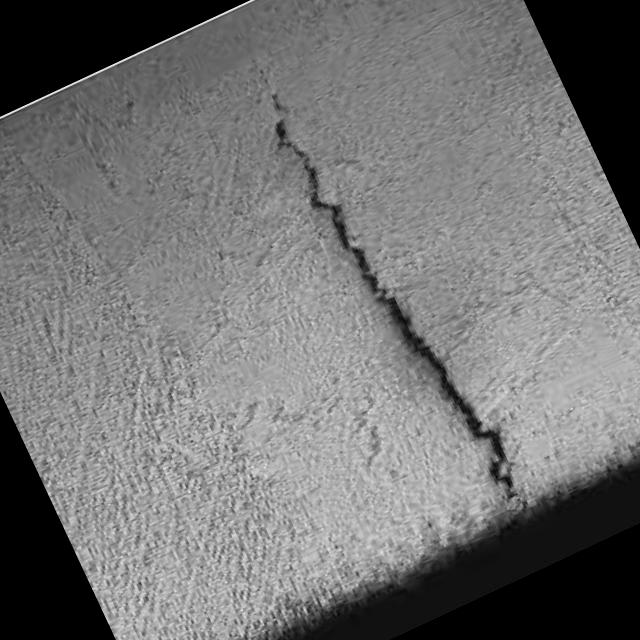defect: (266, 110, 525, 504)
